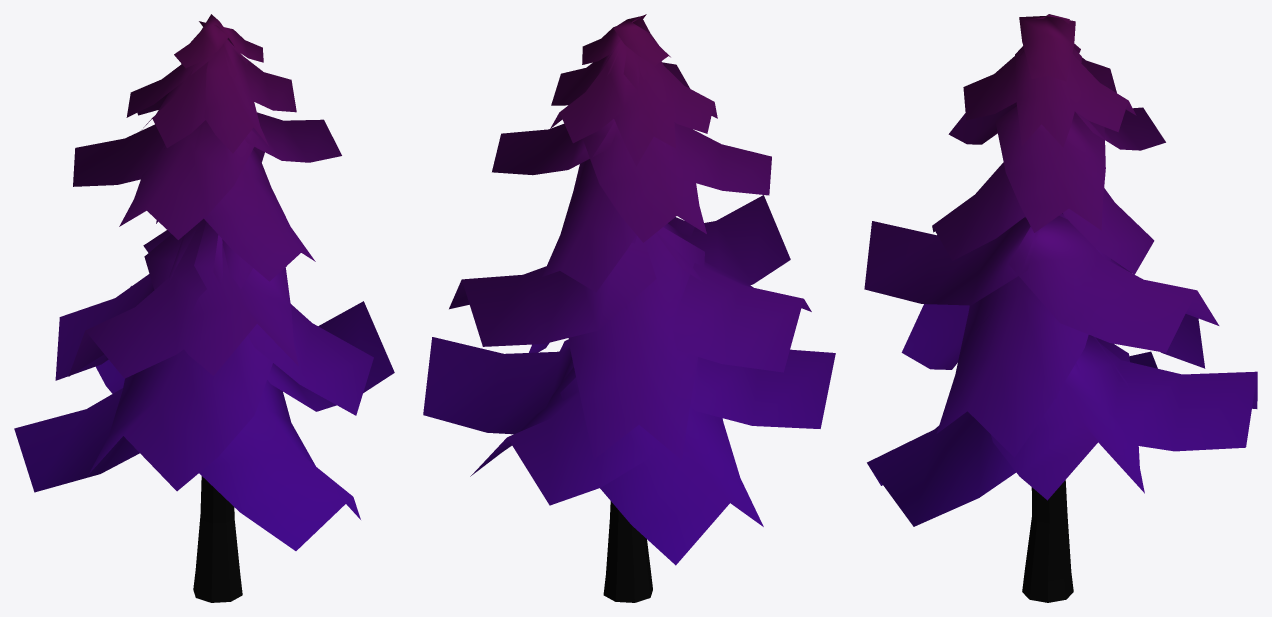
Rendered from SM_Tree_Pine_Small_02_LOD_01.fbx.
3 views of the same model, side by side, from view 1: azimuth 30°, elevation 25°; view 2: azimuth 150°, elevation 25°; view 3: azimuth 270°, elevation 25° (orthographic).
Visible parts, largest first — view 1: SM_Tree_Pine_Small_02_LOD_01; view 2: SM_Tree_Pine_Small_02_LOD_01; view 3: SM_Tree_Pine_Small_02_LOD_01.
Part boxes in pixels (x1,y1,x2,y2): SM_Tree_Pine_Small_02_LOD_01: (14,14,394,602); SM_Tree_Pine_Small_02_LOD_01: (423,14,835,602); SM_Tree_Pine_Small_02_LOD_01: (864,14,1257,602).
Bounding box in the file's own units: 191 × 310 × 191.
